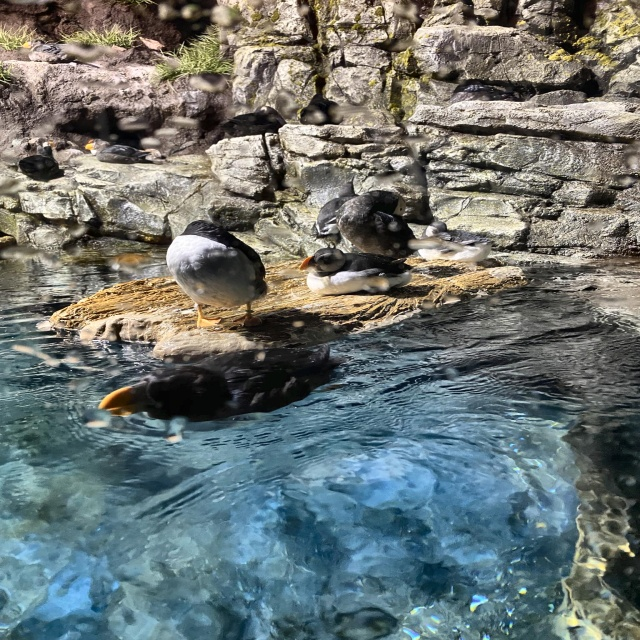puffin: (99, 346, 345, 424), (166, 217, 268, 329), (339, 187, 451, 252), (299, 248, 420, 296), (312, 189, 371, 255), (215, 104, 288, 140), (15, 135, 63, 182), (86, 136, 153, 163)
